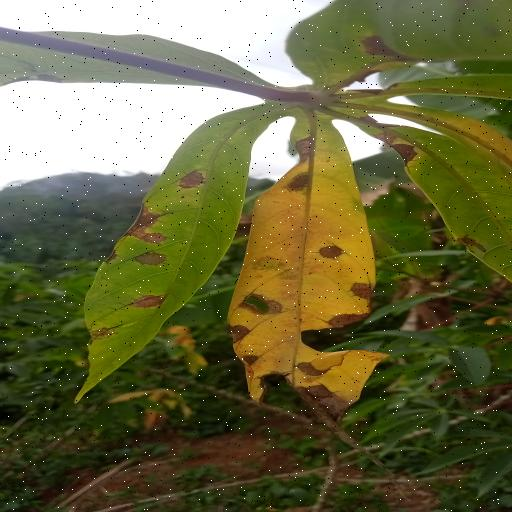Cassava_Brown_Leaf_Spot: (7, 0, 512, 421)
